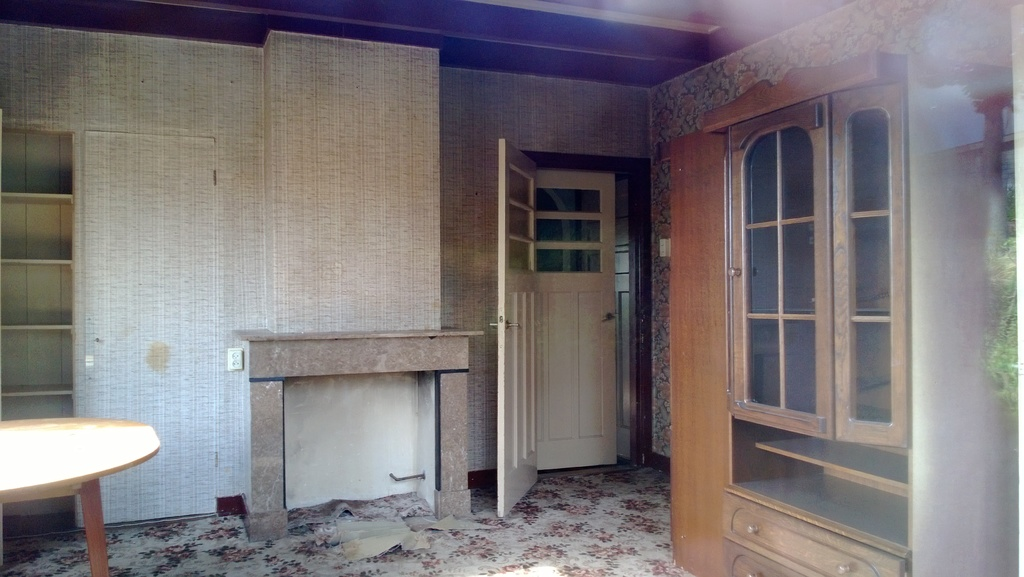Door: (723, 94, 840, 444), (533, 172, 614, 474), (496, 137, 542, 516), (607, 178, 636, 460)
